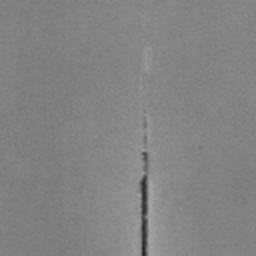Slag inclusion: (140, 113, 150, 256)
